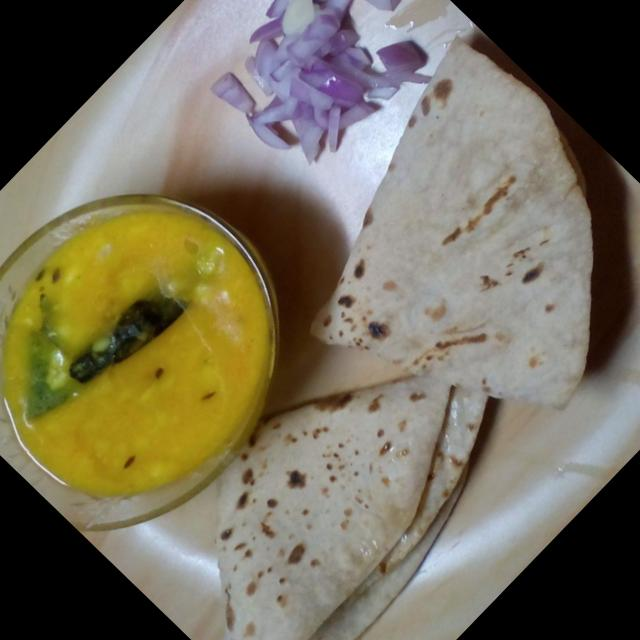dal: (0, 142, 338, 558)
roti: (250, 34, 640, 457), (126, 297, 557, 640)
